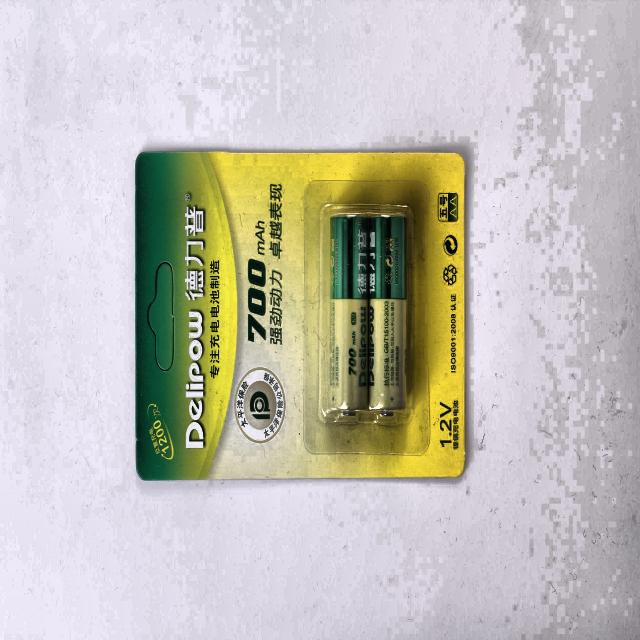Non-Valuable Waste - Batteries: (328, 216, 369, 416), (368, 216, 406, 416)
